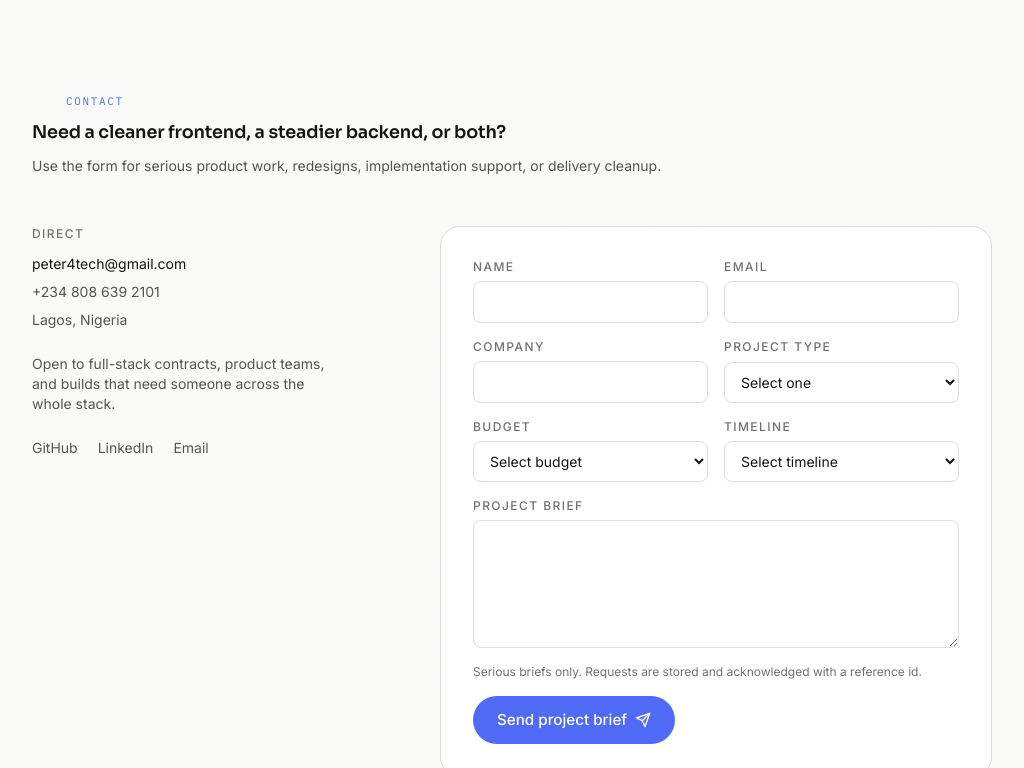
Scenario: contact form › shows an inline error when the request fails (page stays up)
In the field labelled "Name": {"x": 590, "y": 302} [473,281,708,323], type "Ada Lovelace"
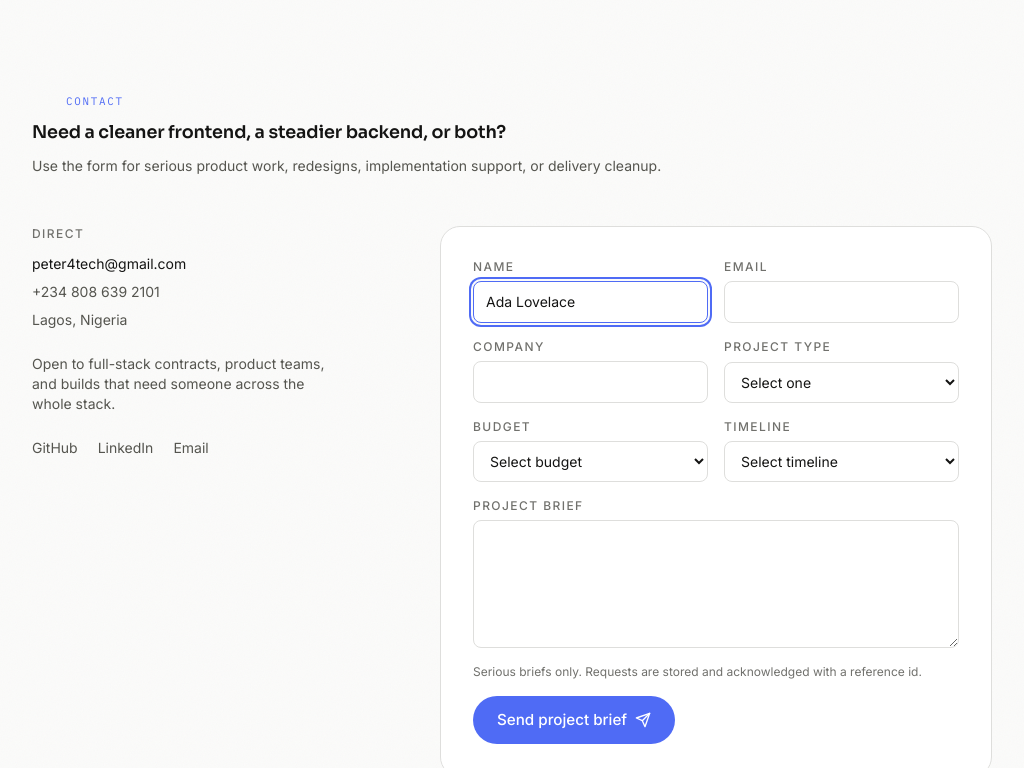
In the field labelled "Email": {"x": 842, "y": 302} [724,281,959,323], type "ada@example.com"
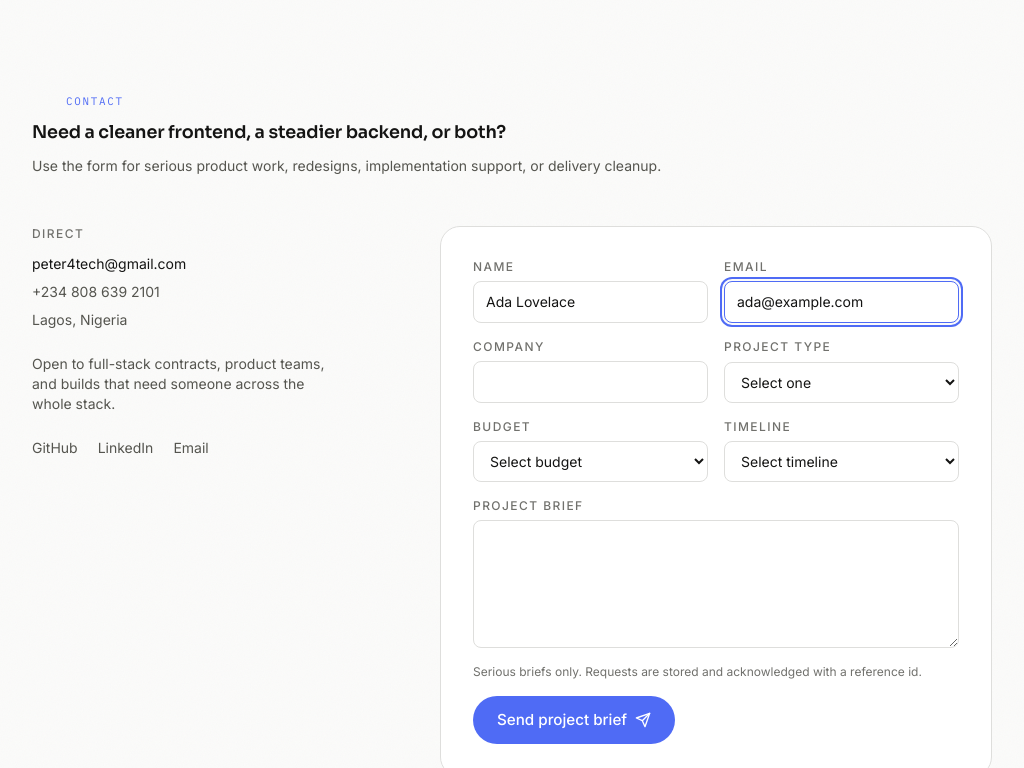
Select "Design system & UI cleanup" in the dropdown labelled "Project type": {"x": 842, "y": 382} [724,362,959,403]
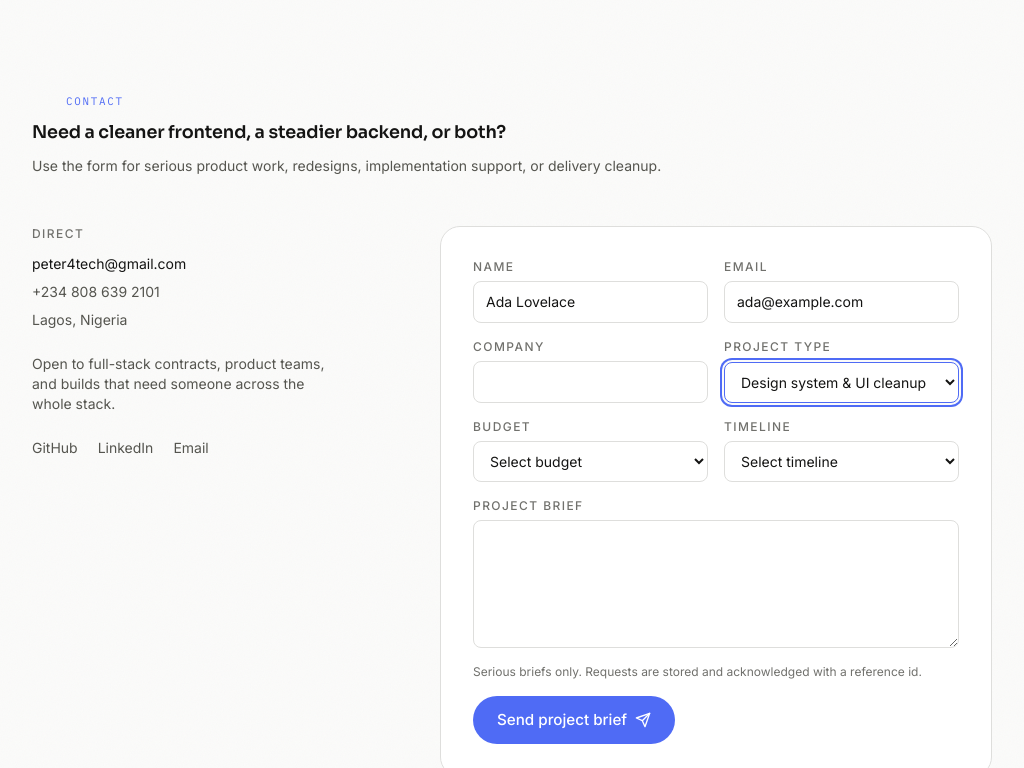
In the text box labelled "Project brief": {"x": 716, "y": 584} [473,520,959,648], type "Design system cleanup, please."
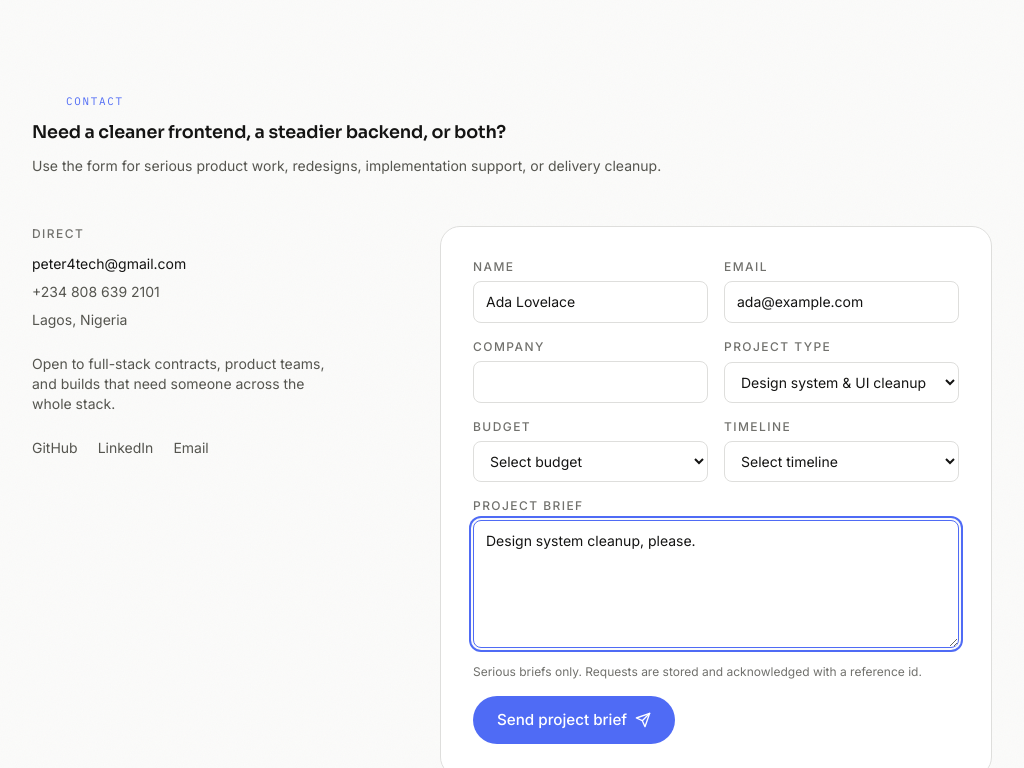
Click the button "Send project brief": {"x": 574, "y": 720} [473,696,675,744]
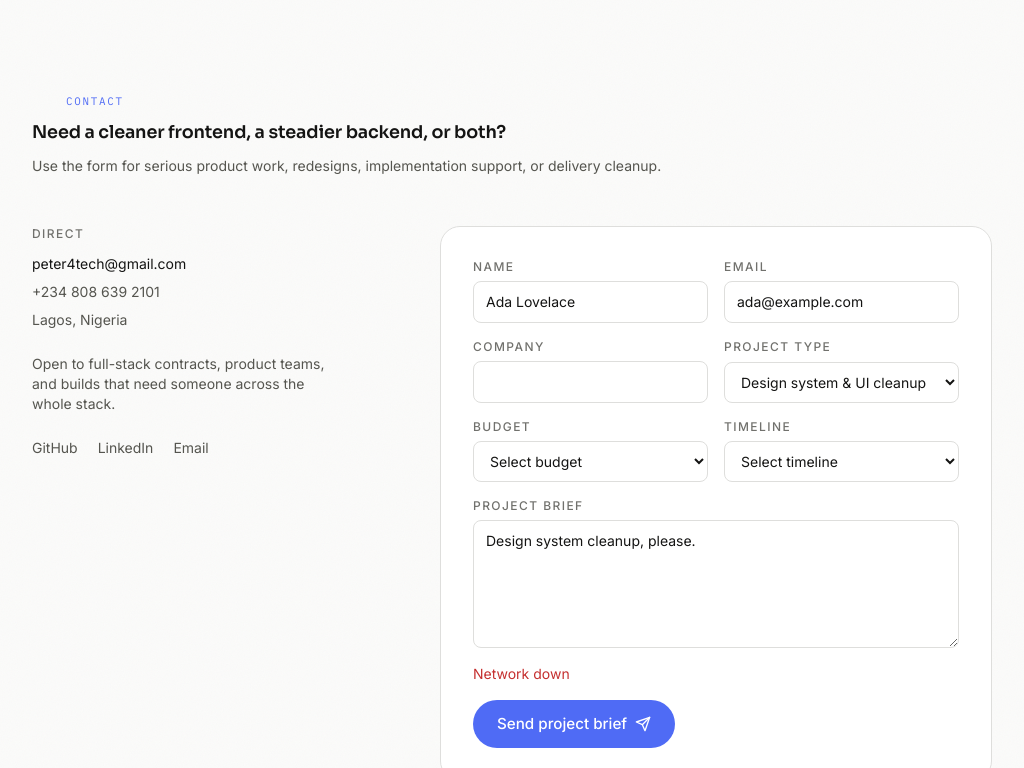
Expected: the message reads "Network down", [473,665,570,682]
